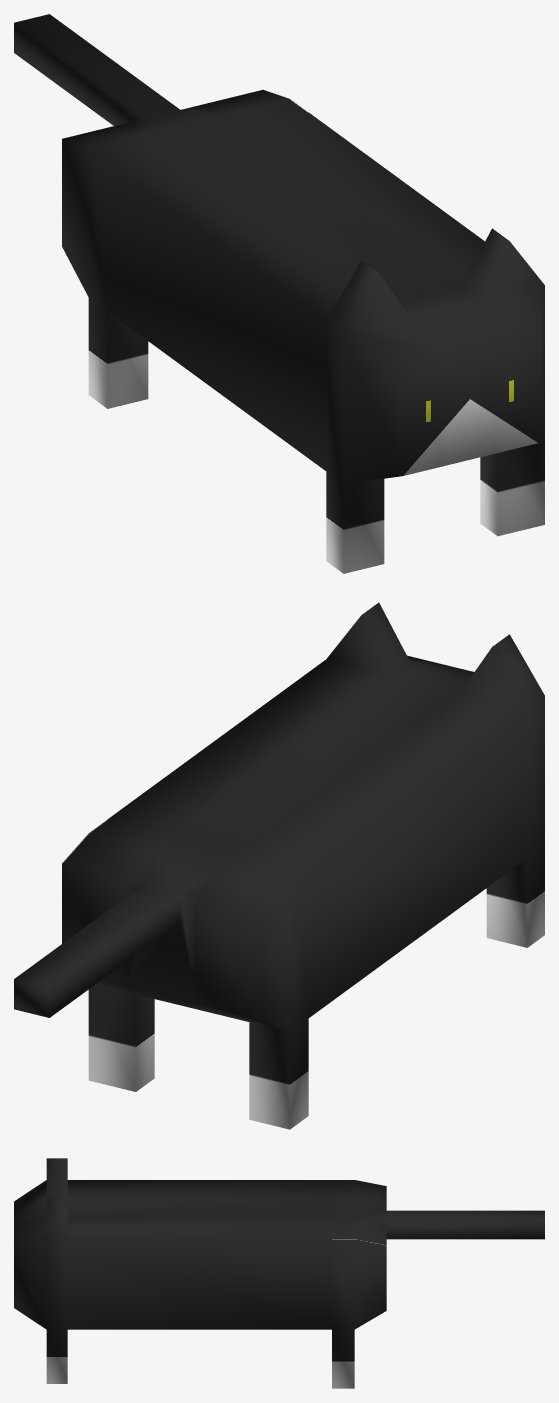
The model's file is cat.fbx.
The picture shows the model from 3 angles, top to bottom: view 1: azimuth 30°, elevation 25°; view 2: azimuth 150°, elevation 25°; view 3: azimuth 270°, elevation 25°; orthographic projection. The views are drawn at different scales.
Visible parts, largest first — view 1: cat; view 2: cat; view 3: cat.
Part boxes in pixels (bbox=[...]): cat: bbox=[14, 14, 544, 573]; cat: bbox=[14, 602, 544, 1129]; cat: bbox=[14, 1158, 544, 1388].
Size of the model in its own units: 21.1 by 79.81 by 30.08.
Materials: 1 (1 with a texture image).
